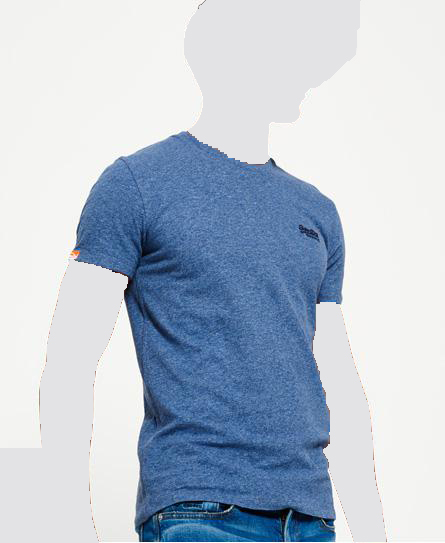teeshirt: (65, 128, 351, 518)
